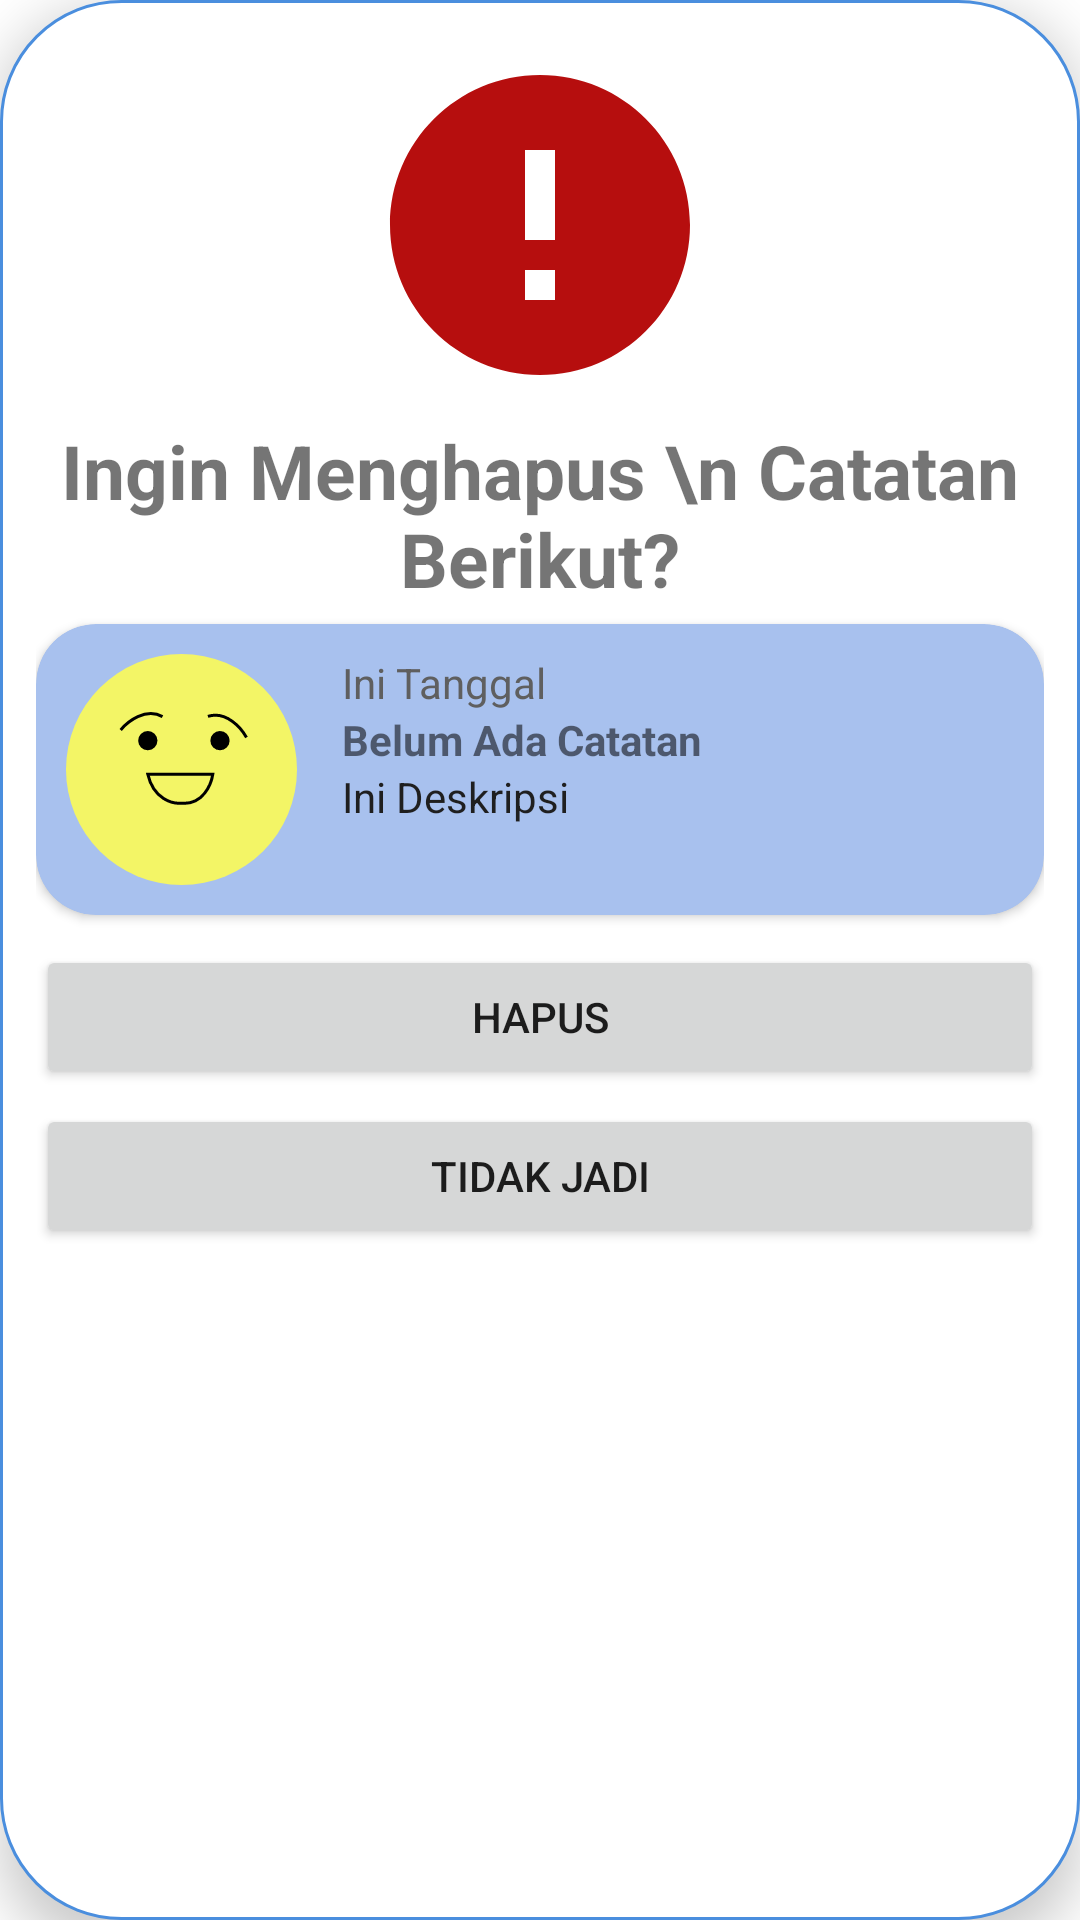

Screen size 1080 x 1920. Icon name, then its center in pixels as [x,y]:
error: [540,225]
perasaan: [181,769]
